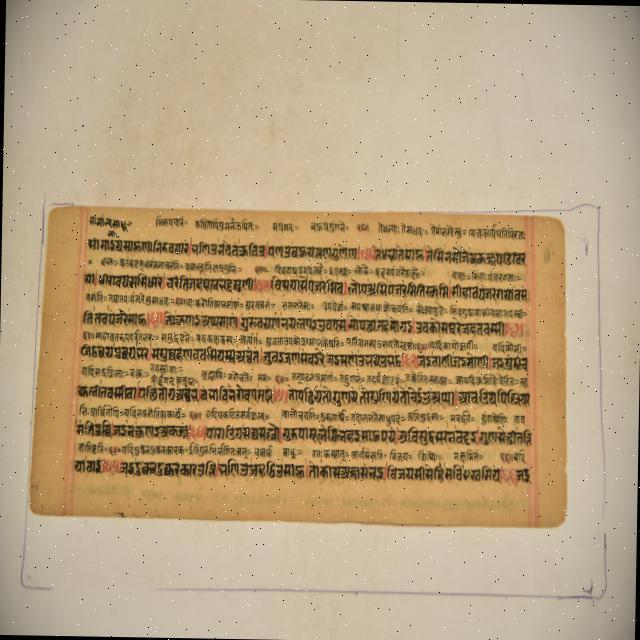text_paragraph: (28, 205, 565, 525)
